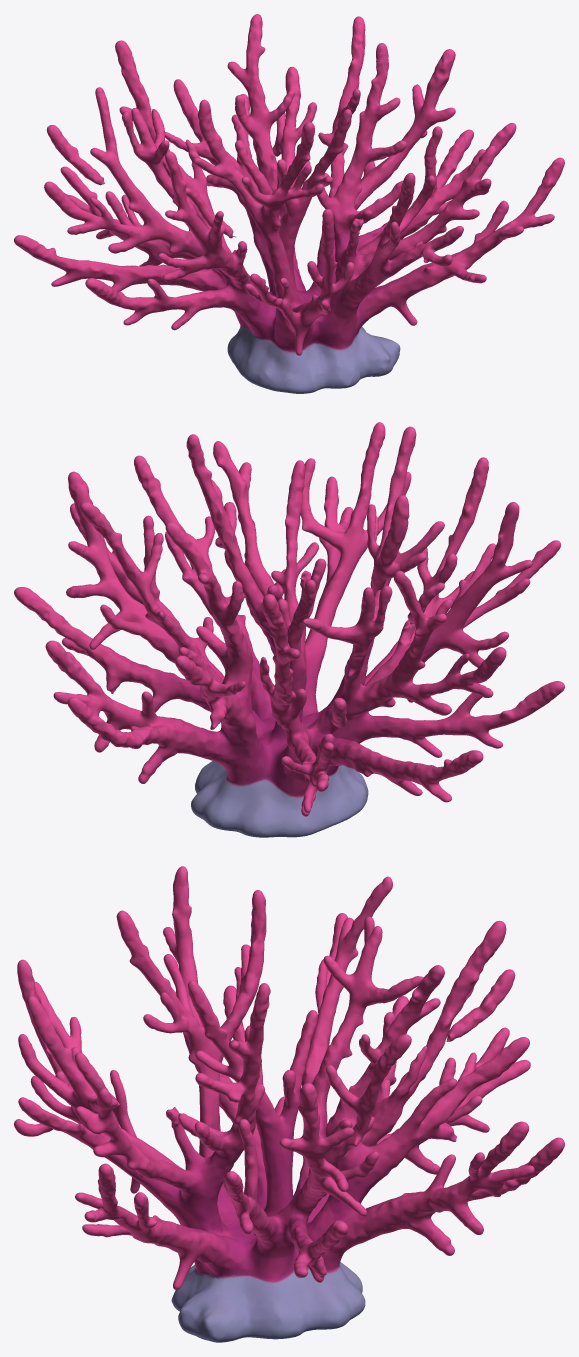
File: recife_coral_remo.glb
3 renders of one model, top to bottom at view 1: azimuth 30°, elevation 25°; view 2: azimuth 150°, elevation 25°; view 3: azimuth 270°, elevation 25°, orthographic. The views are drawn at different scales.
Bounding box in the file's own units: 1.9 × 1.26 × 1.72.
Materials: 1 (1 with a texture image).
